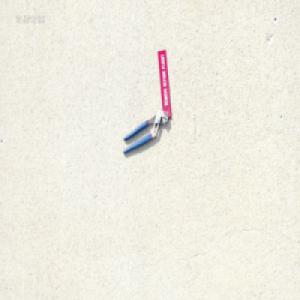Label: (156, 48, 172, 118)
Pliers: (122, 109, 168, 155)
